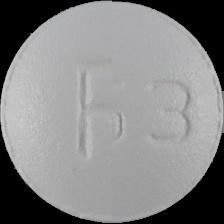0904-6551: (0, 0, 224, 224)
